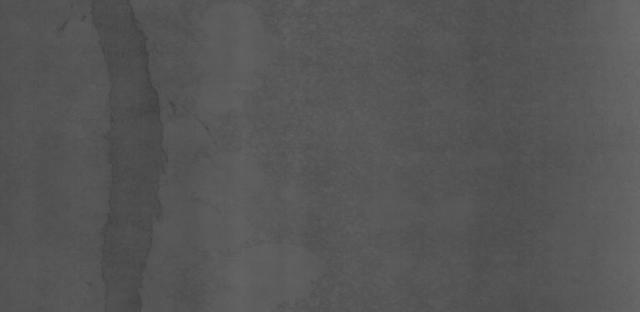water_spot: (78, 12, 197, 307)
